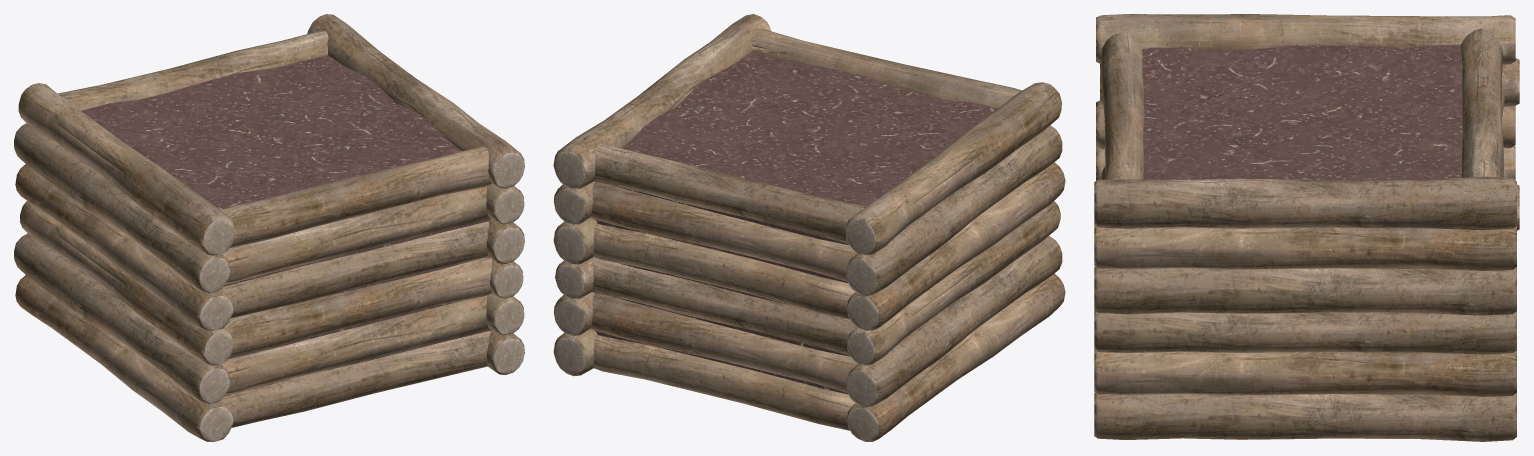
3 views of the same model, side by side, from view 1: azimuth 30°, elevation 25°; view 2: azimuth 150°, elevation 25°; view 3: azimuth 270°, elevation 25° (orthographic). The views are drawn at different scales.
Parts seen in each view (by area): view 1: SM_Ash_Planter_01v1_LOD0; view 2: SM_Ash_Planter_01v1_LOD0; view 3: SM_Ash_Planter_01v1_LOD0.
Part boxes in pixels (x1,y1,x2,y2): SM_Ash_Planter_01v1_LOD0: (14,14,524,441); SM_Ash_Planter_01v1_LOD0: (553,14,1065,441); SM_Ash_Planter_01v1_LOD0: (1094,14,1519,441).
Size of the model in its own units: 3.43 by 2.3 by 3.36.
2 materials, 2 textured.
